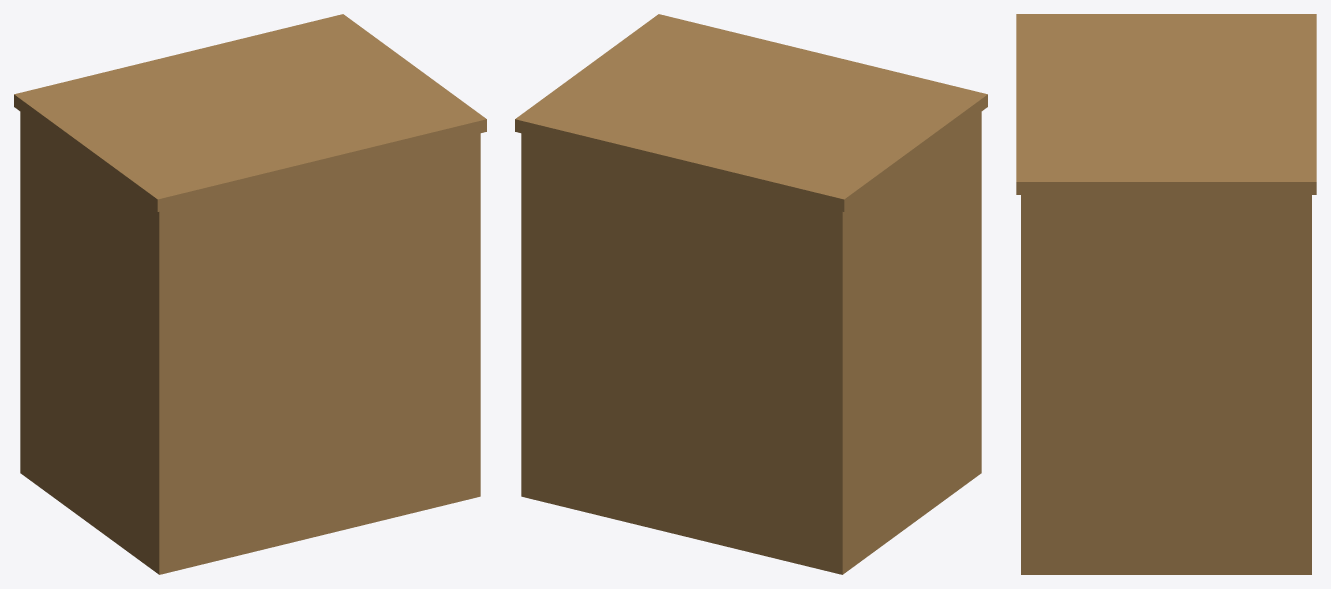
File: parametric-other-2nd-pub.glb
3 renders of one model, left to right at view 1: azimuth 30°, elevation 25°; view 2: azimuth 150°, elevation 25°; view 3: azimuth 270°, elevation 25°, orthographic. The views are drawn at different scales.
Parts seen in each view (by area): view 1: parametric-other-2nd-pub; view 2: parametric-other-2nd-pub; view 3: parametric-other-2nd-pub.
Part boxes in pixels (x1,y1,x2,y2): parametric-other-2nd-pub: (14,14,486,574); parametric-other-2nd-pub: (515,14,987,574); parametric-other-2nd-pub: (1016,14,1316,574).
Size of the model in its own units: 0.82 by 0.9 by 0.62.
